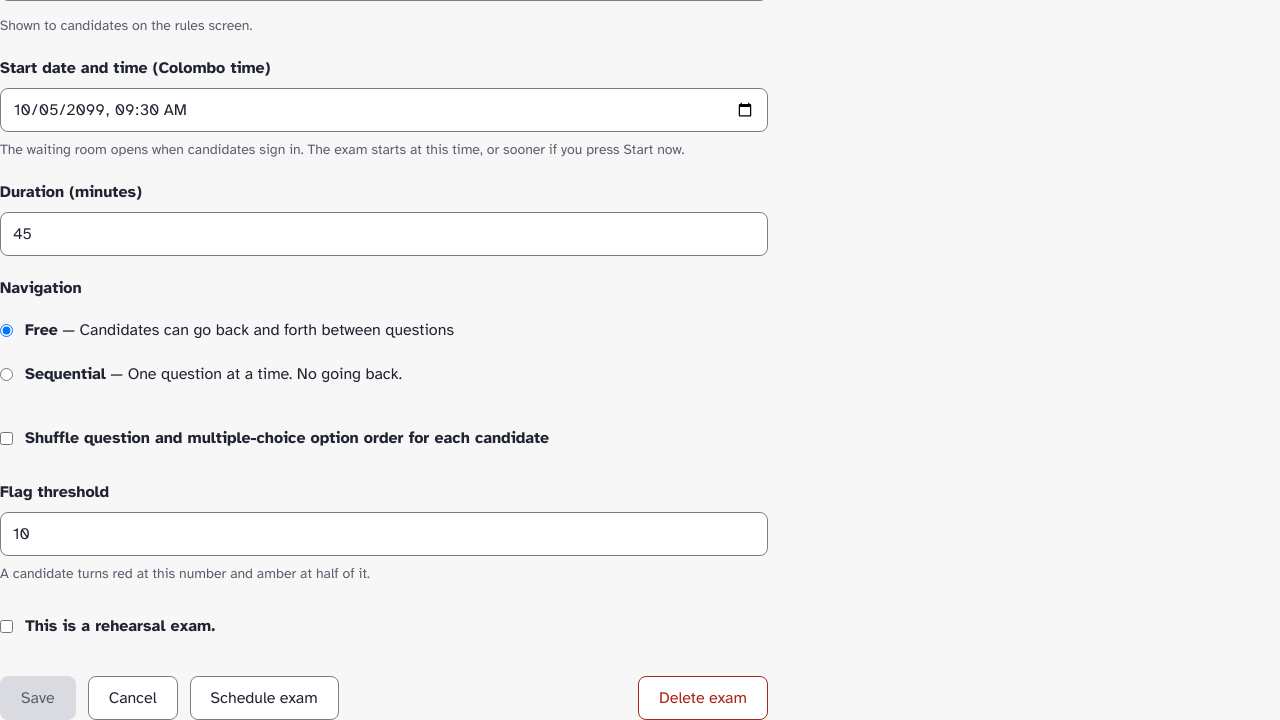
Scenario: ExamForm › shows delete request failures as persistent toasts
(page scrolled)
Click the button "Delete exam".
click(703, 698)  # box [638,676,768,719]
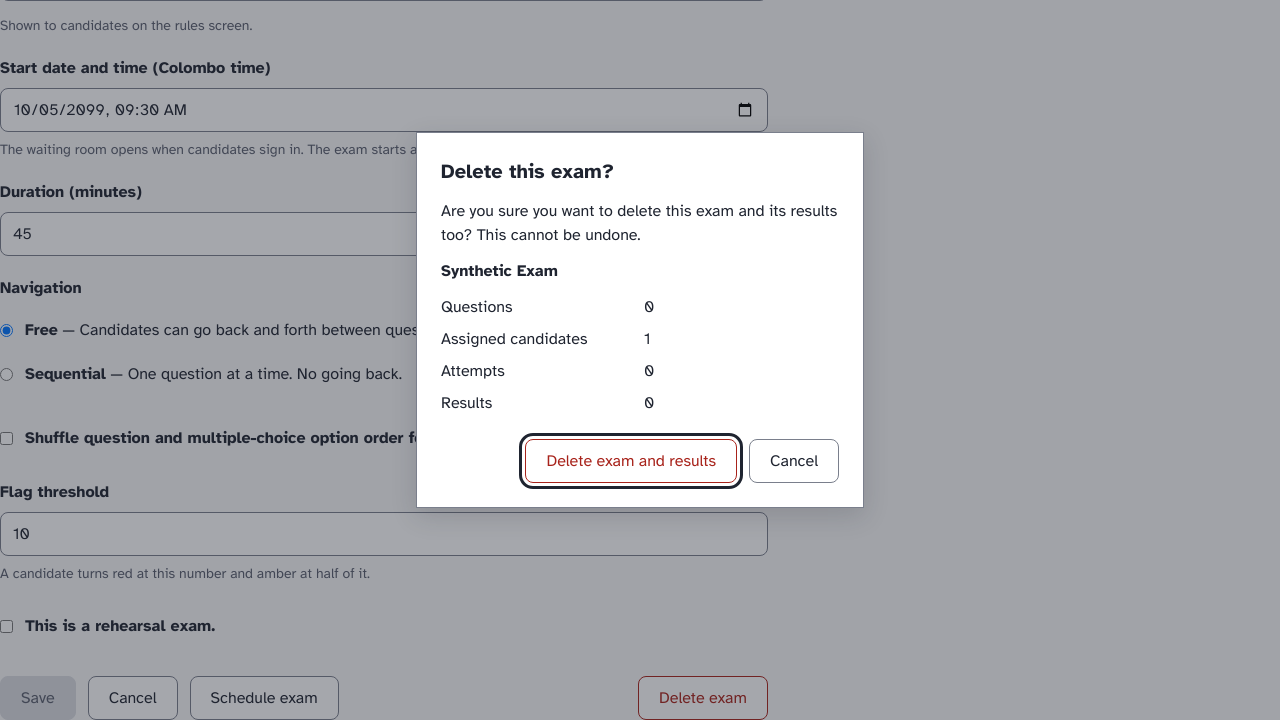
Click the button "Delete exam and results".
click(631, 461)  # box [525,439,737,483]
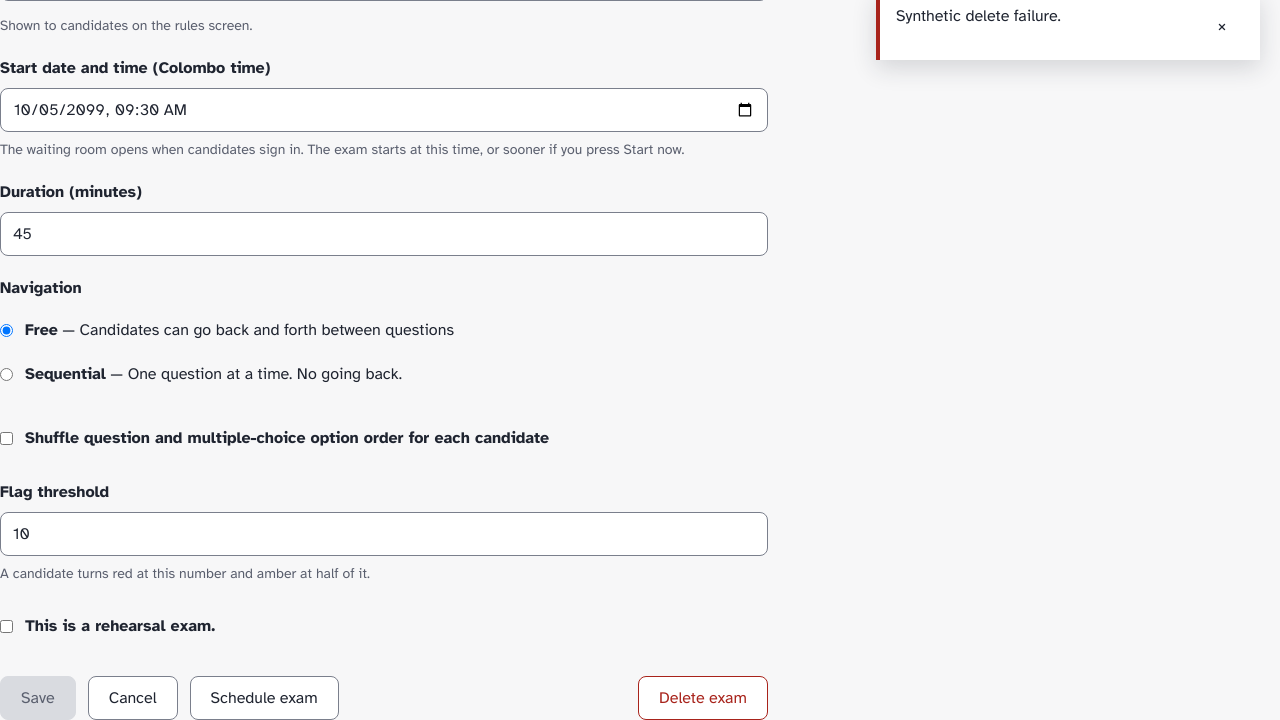
Check: the text "Synthetic delete failure." is shown, box [896,4,1061,28]
